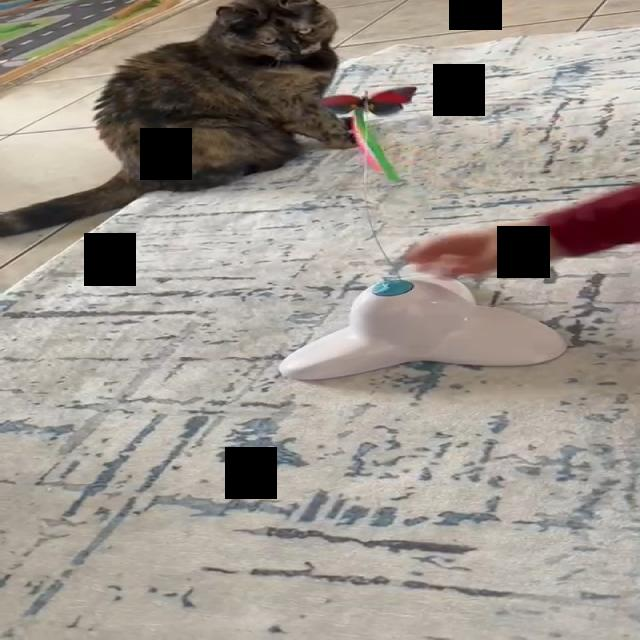authorized: (0, 0, 357, 237)
